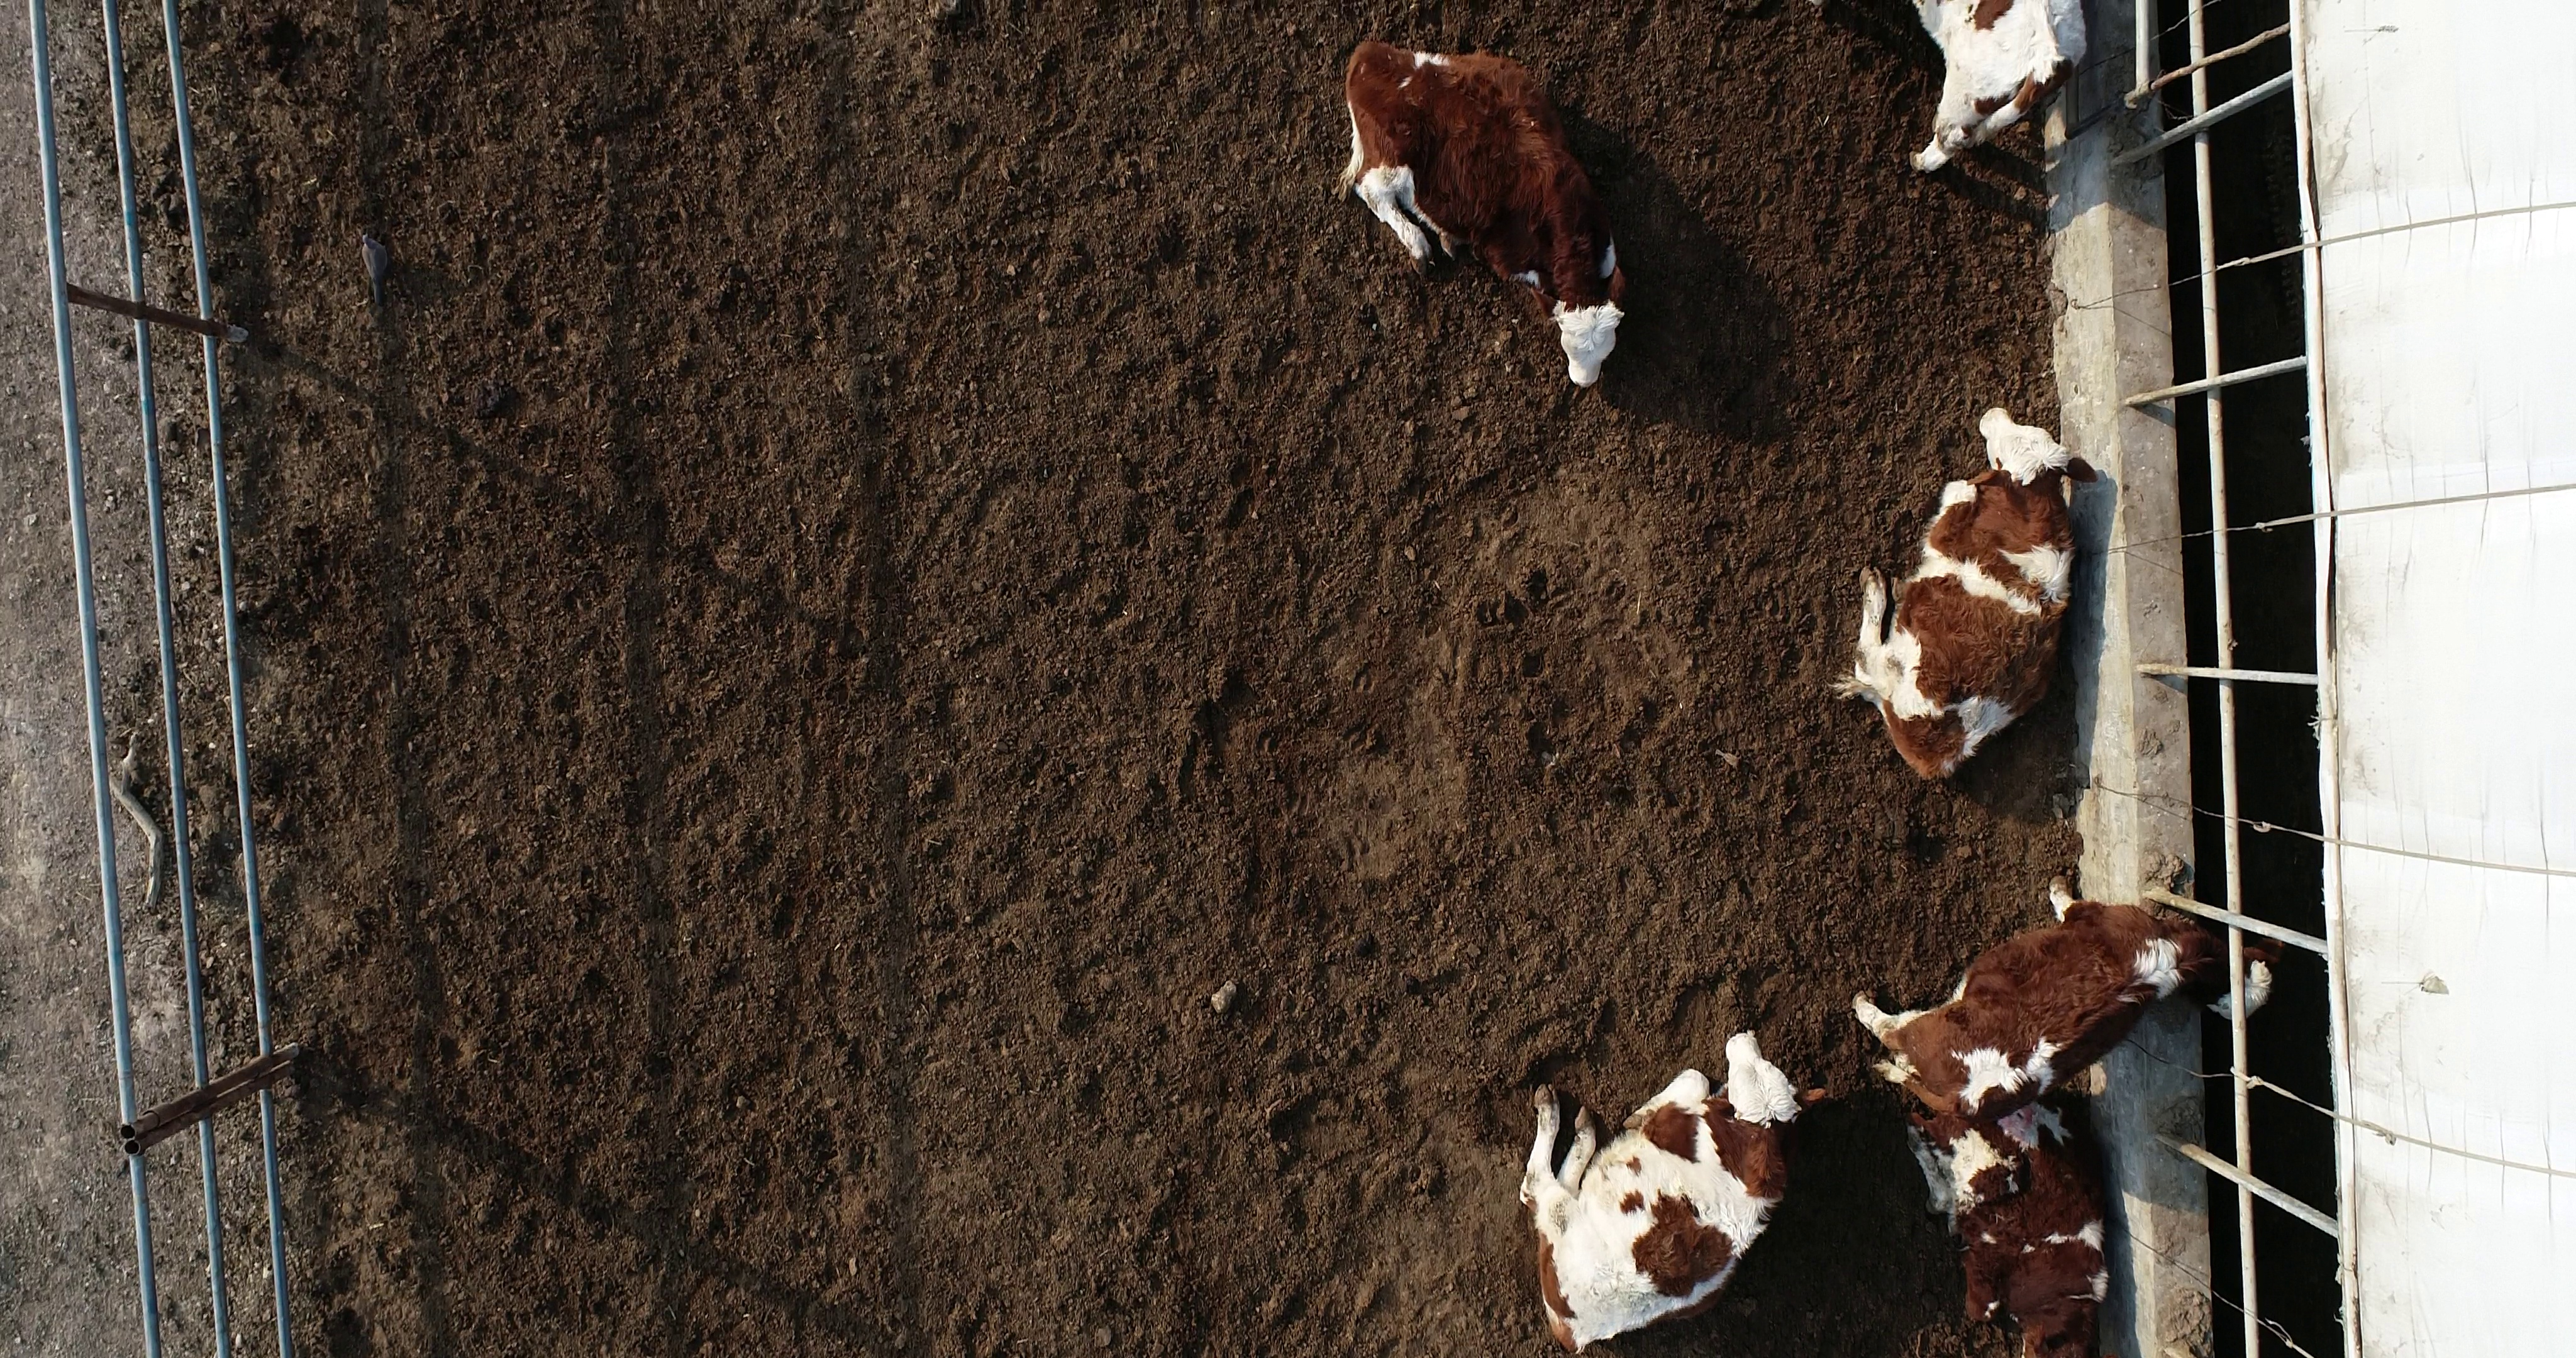cattle: (1820, 406, 2104, 789), (1329, 37, 1632, 394), (1513, 1024, 1830, 1358)
